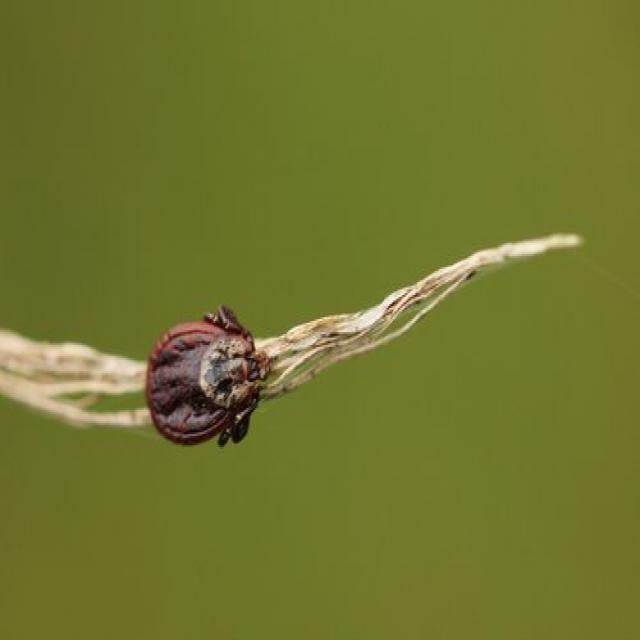Dermacentor Reticulatus-F: (146, 306, 268, 445)
